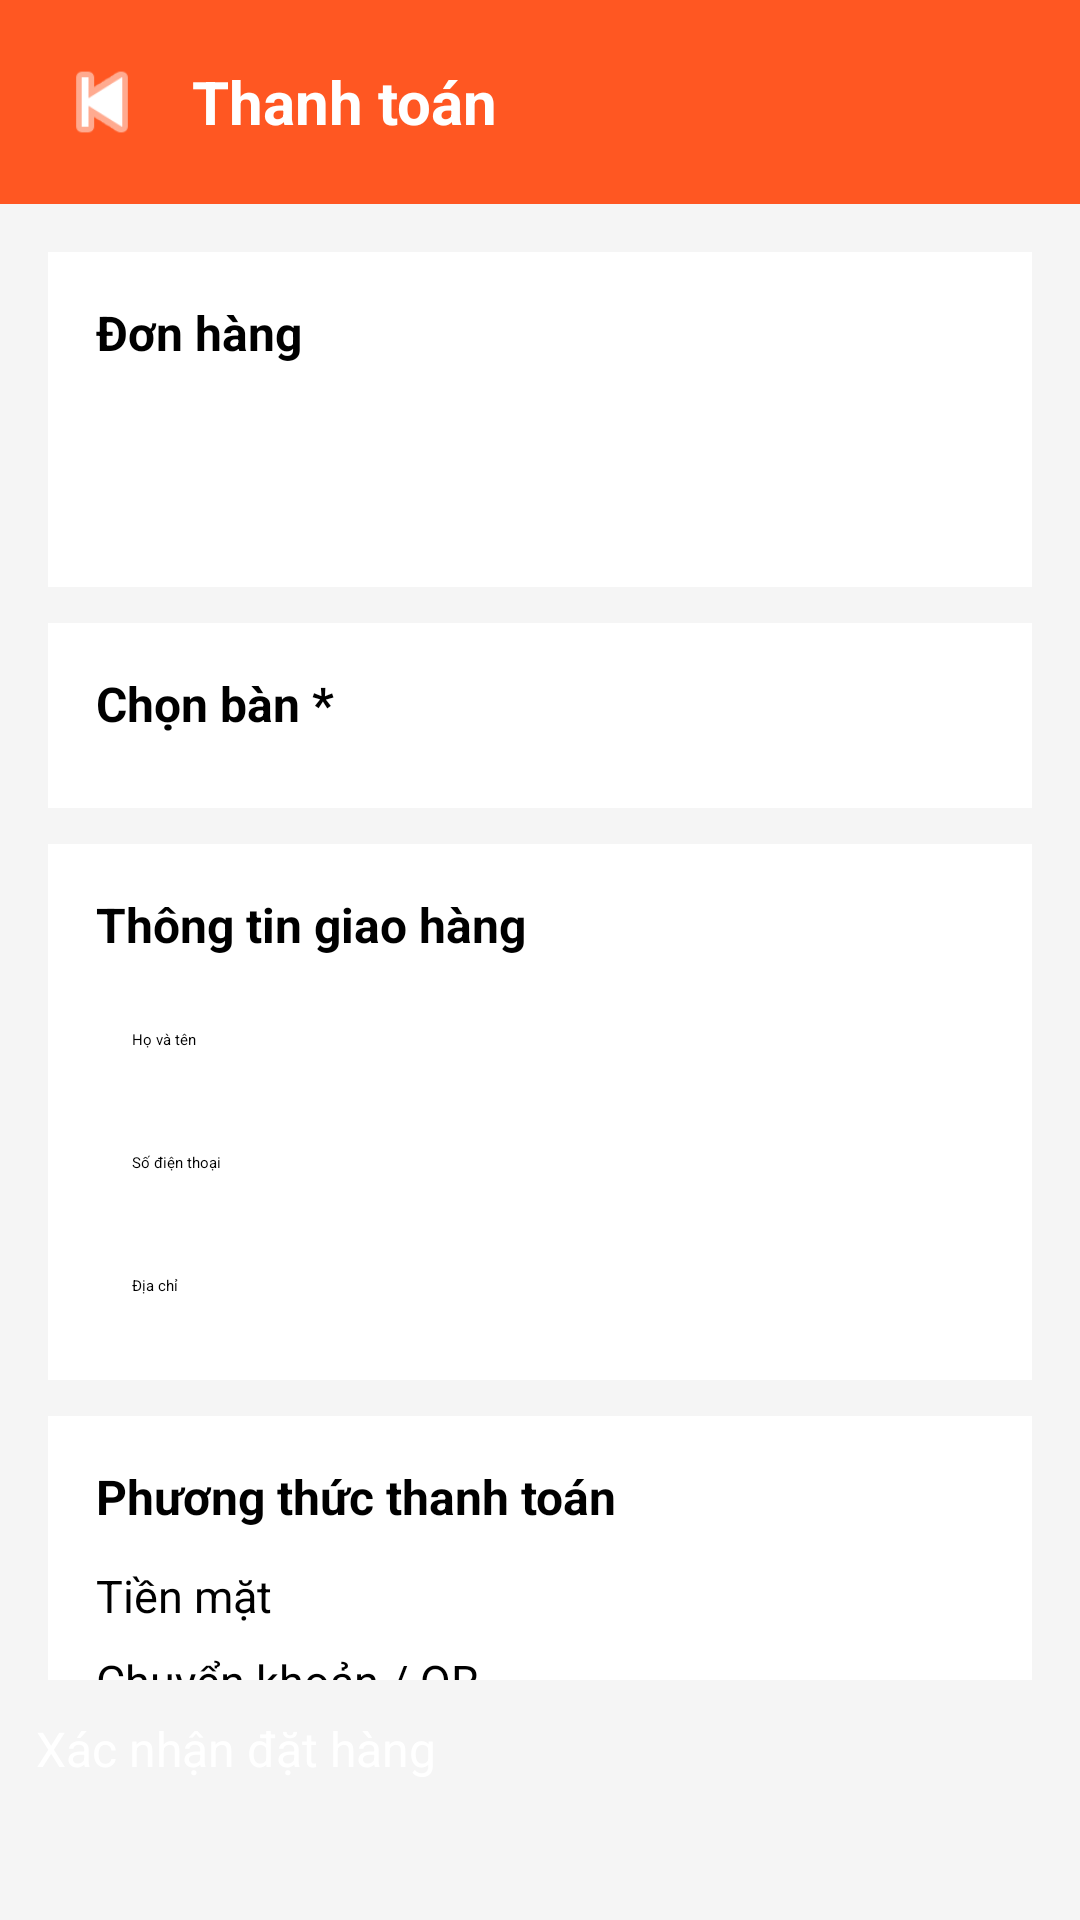

Locate icon controls on the screen. Image size 1080w x 1920h, boxes as (x1, y1, x2, y2).
previous: (76, 71, 128, 133)
